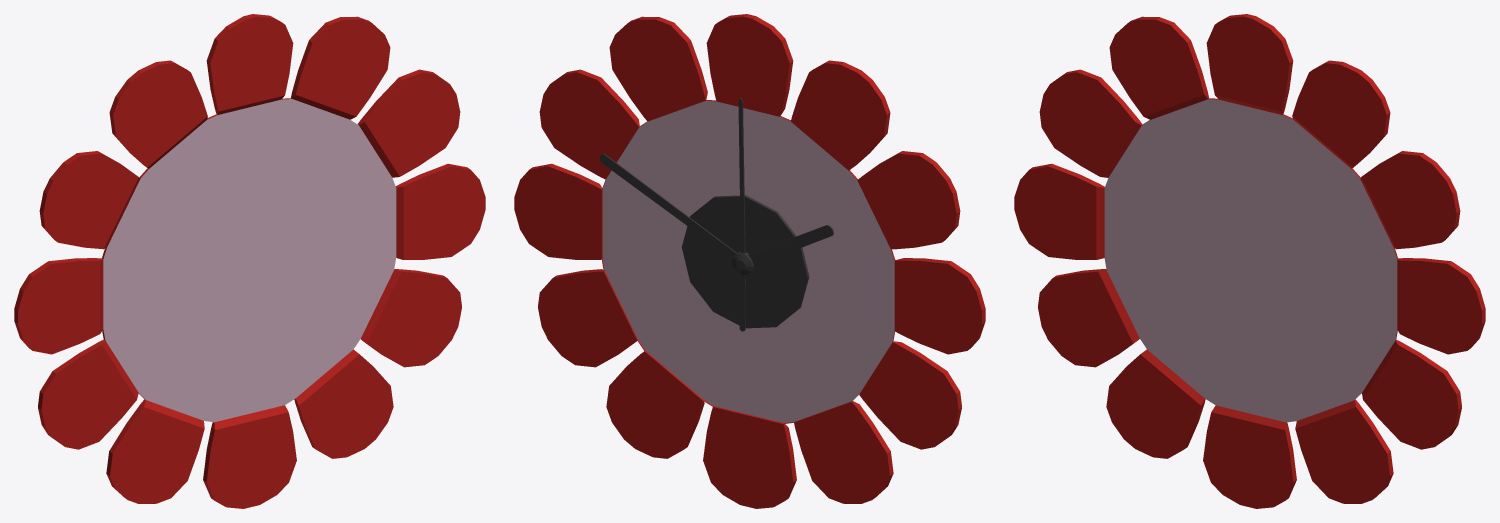
File: relogio.fbx
The picture shows the model from 3 angles, left to right: view 1: azimuth 30°, elevation 25°; view 2: azimuth 150°, elevation 25°; view 3: azimuth 330°, elevation 25°; orthographic projection.
Visible parts, largest first — view 1: relogio; view 2: relogio; view 3: relogio.
Part boxes in pixels (x1,y1,x2,y2): relogio: (14, 14, 485, 508); relogio: (514, 14, 985, 508); relogio: (1014, 14, 1485, 508).
Bounding box in the file's own units: 47.18 × 47.18 × 1.51.
